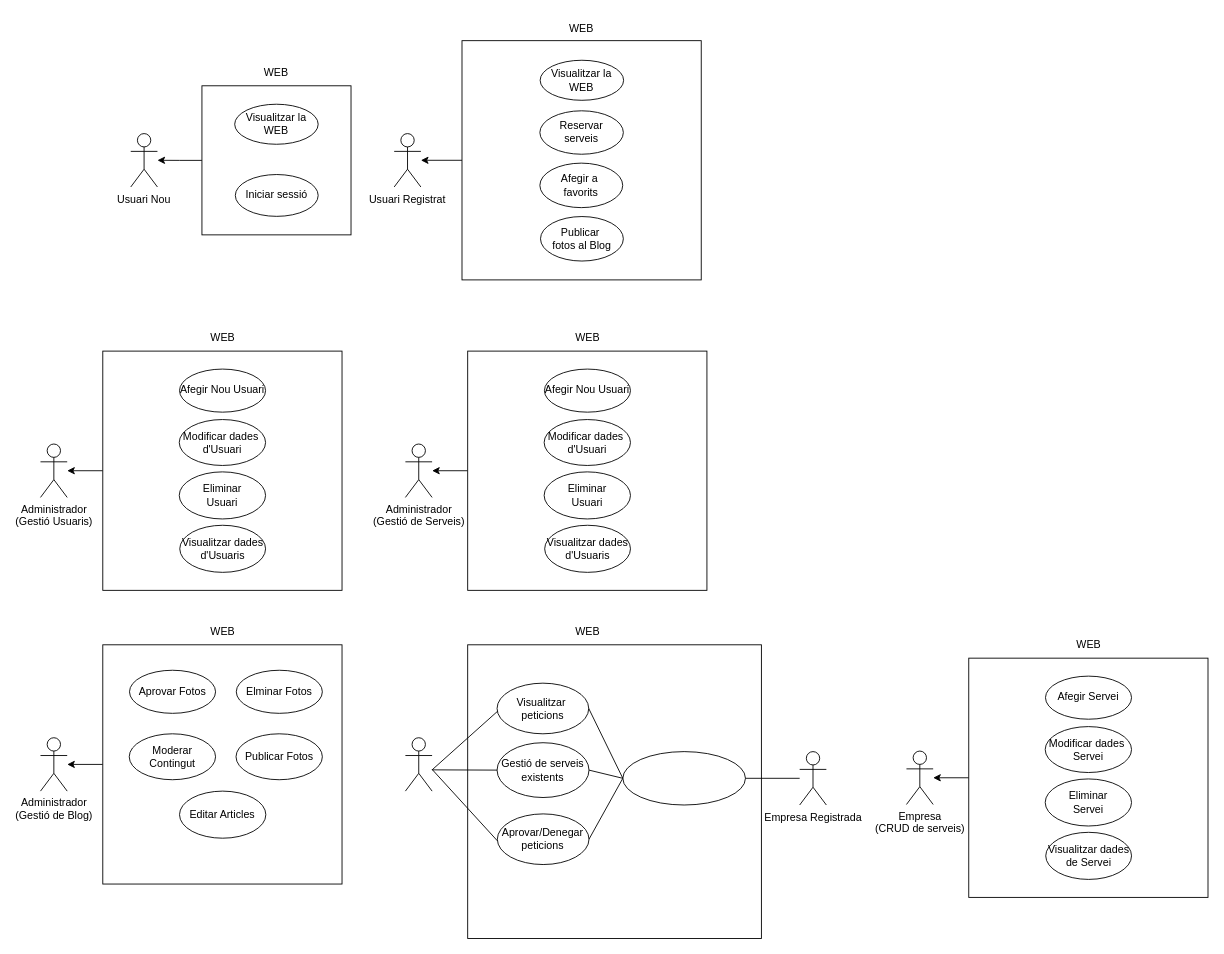
The diagram is 1224 pixels wide and 954 high, and some of its shapes have lost their labels. Here are the shapes that lost their labels. From the top down, the centre of each, then its label:
At point 418,764: "Administrador (Aprovació de Serveis d'Empreses Externes)".
At point 683,778: "Enviar Petició a RallyGO per oferir un servei".
